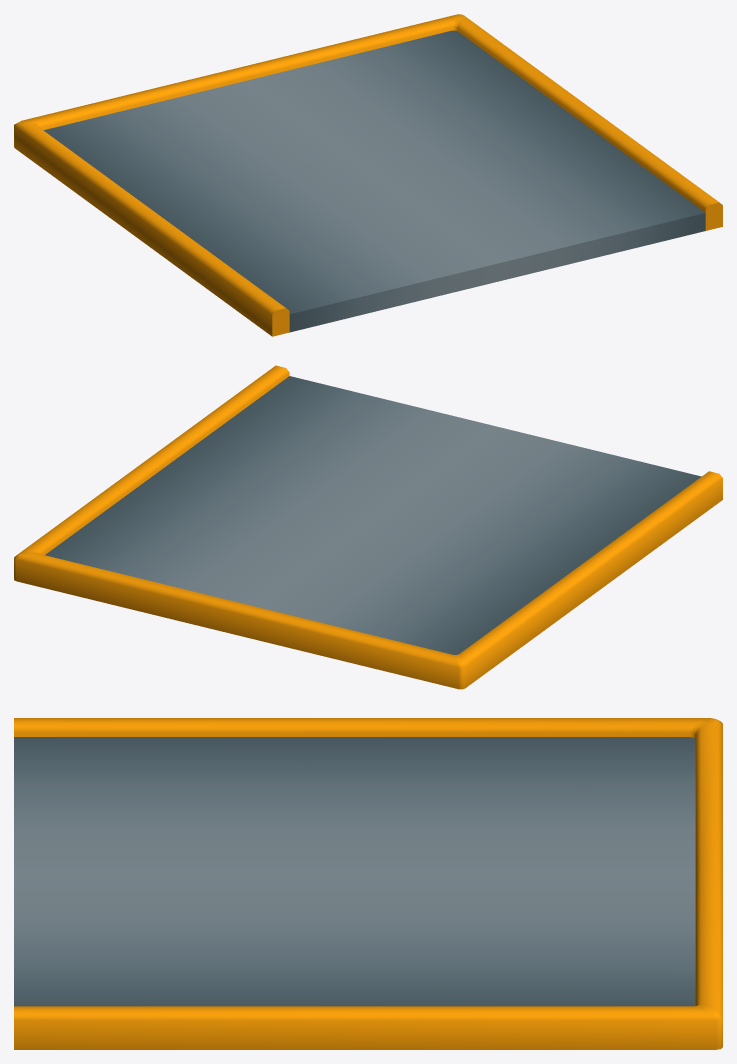
Rendered from platform_015.fbx.
3 renders of one model, top to bottom at view 1: azimuth 30°, elevation 25°; view 2: azimuth 150°, elevation 25°; view 3: azimuth 270°, elevation 25°, orthographic. The views are drawn at different scales.
Visible parts, largest first — view 1: platform_015; view 2: platform_015; view 3: platform_015.
Boxes of the visible parts, <box> form: platform_015: <box>14,14,722,336</box>; platform_015: <box>14,365,722,689</box>; platform_015: <box>14,718,722,1049</box>.
Size of the model in its own units: 1300 by 1300 by 69.59.
